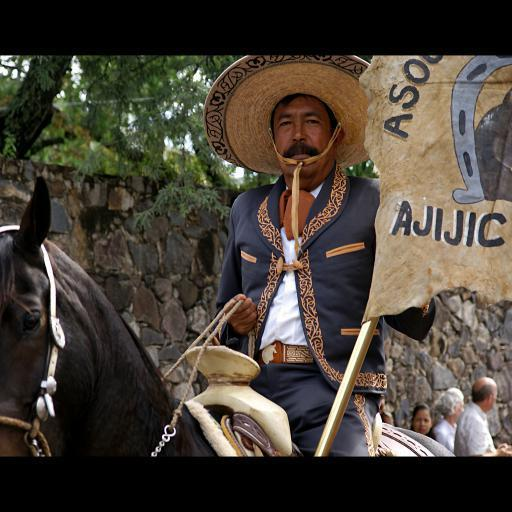horse: (0, 174, 456, 458)
